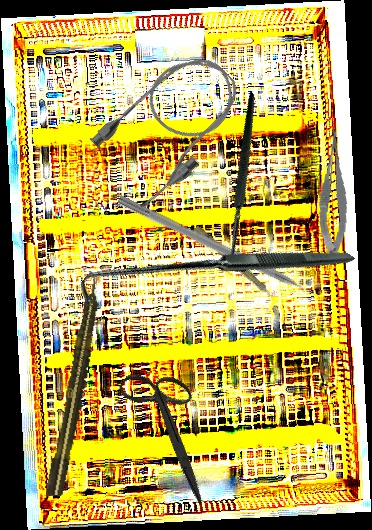Cannula: (82, 38, 260, 215)
Handpiece: (43, 270, 108, 499), (190, 223, 282, 308)
Hook Surgical: (74, 136, 355, 415), (159, 91, 333, 279)
Iris Scissors: (89, 353, 252, 507)
Micro Scissor: (312, 128, 358, 259)
Pusher: (115, 194, 329, 307)
